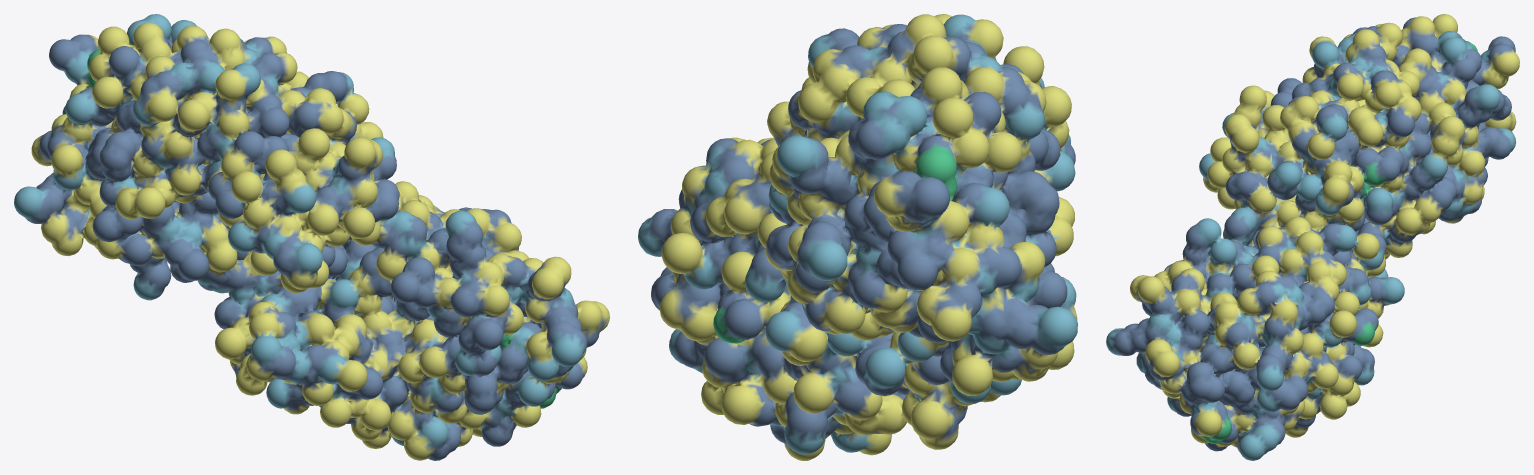
The model's file is subsurfHD.low.glb.
3 renders of one model, left to right at view 1: azimuth 30°, elevation 25°; view 2: azimuth 150°, elevation 25°; view 3: azimuth 270°, elevation 25°, orthographic. The views are drawn at different scales.
Parts seen in each view (by area): view 1: geo1; view 2: geo1; view 3: geo1.
Part boxes in pixels (x1,y1,x2,y2): geo1: (14,14,609,460); geo1: (638,14,1077,460); geo1: (1106,14,1519,460).
Size of the model in its own units: 63.19 by 55.83 by 59.94.
